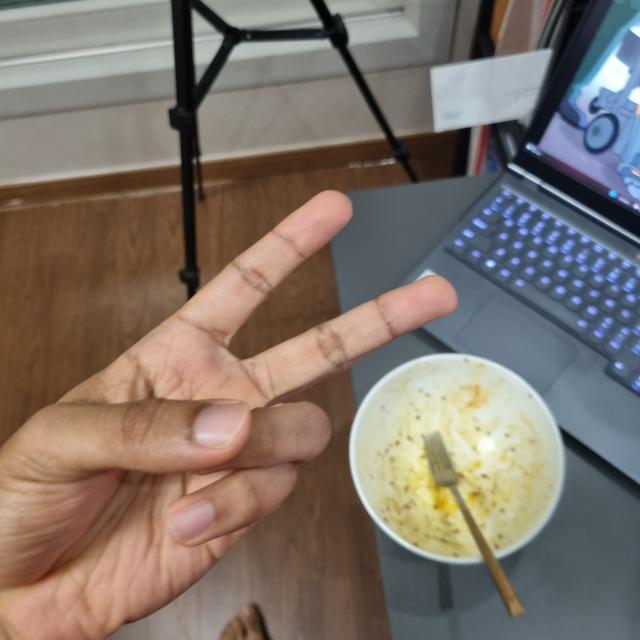Scissors: (1, 191, 451, 640)
